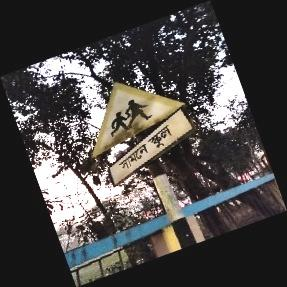School-in-front: (93, 82, 195, 185)
